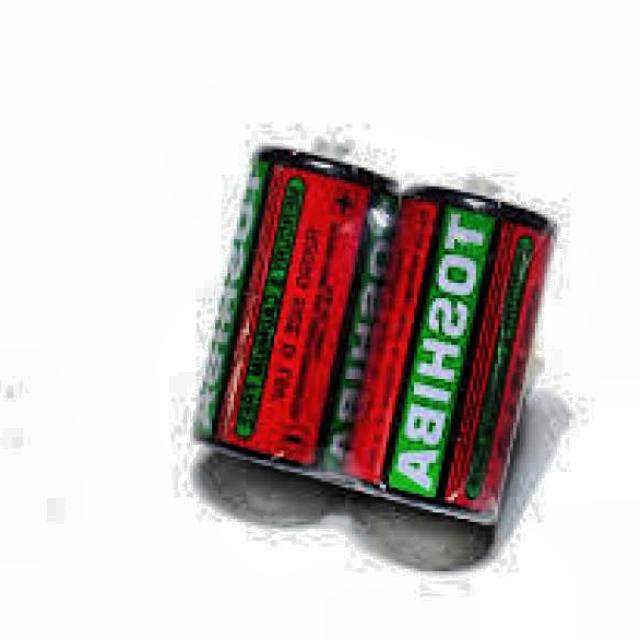Non-Valuable Waste - Batteries: (200, 146, 557, 522)
